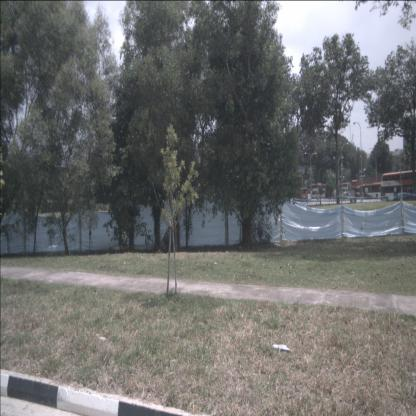vehicle-bus-rigid: (380, 170, 415, 203), (355, 182, 384, 199), (287, 186, 308, 201), (304, 183, 323, 199), (332, 182, 351, 196), (350, 180, 359, 195)
